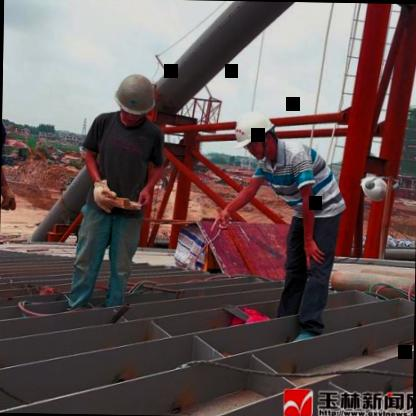helmet: (228, 103, 284, 165), (110, 72, 157, 129)
